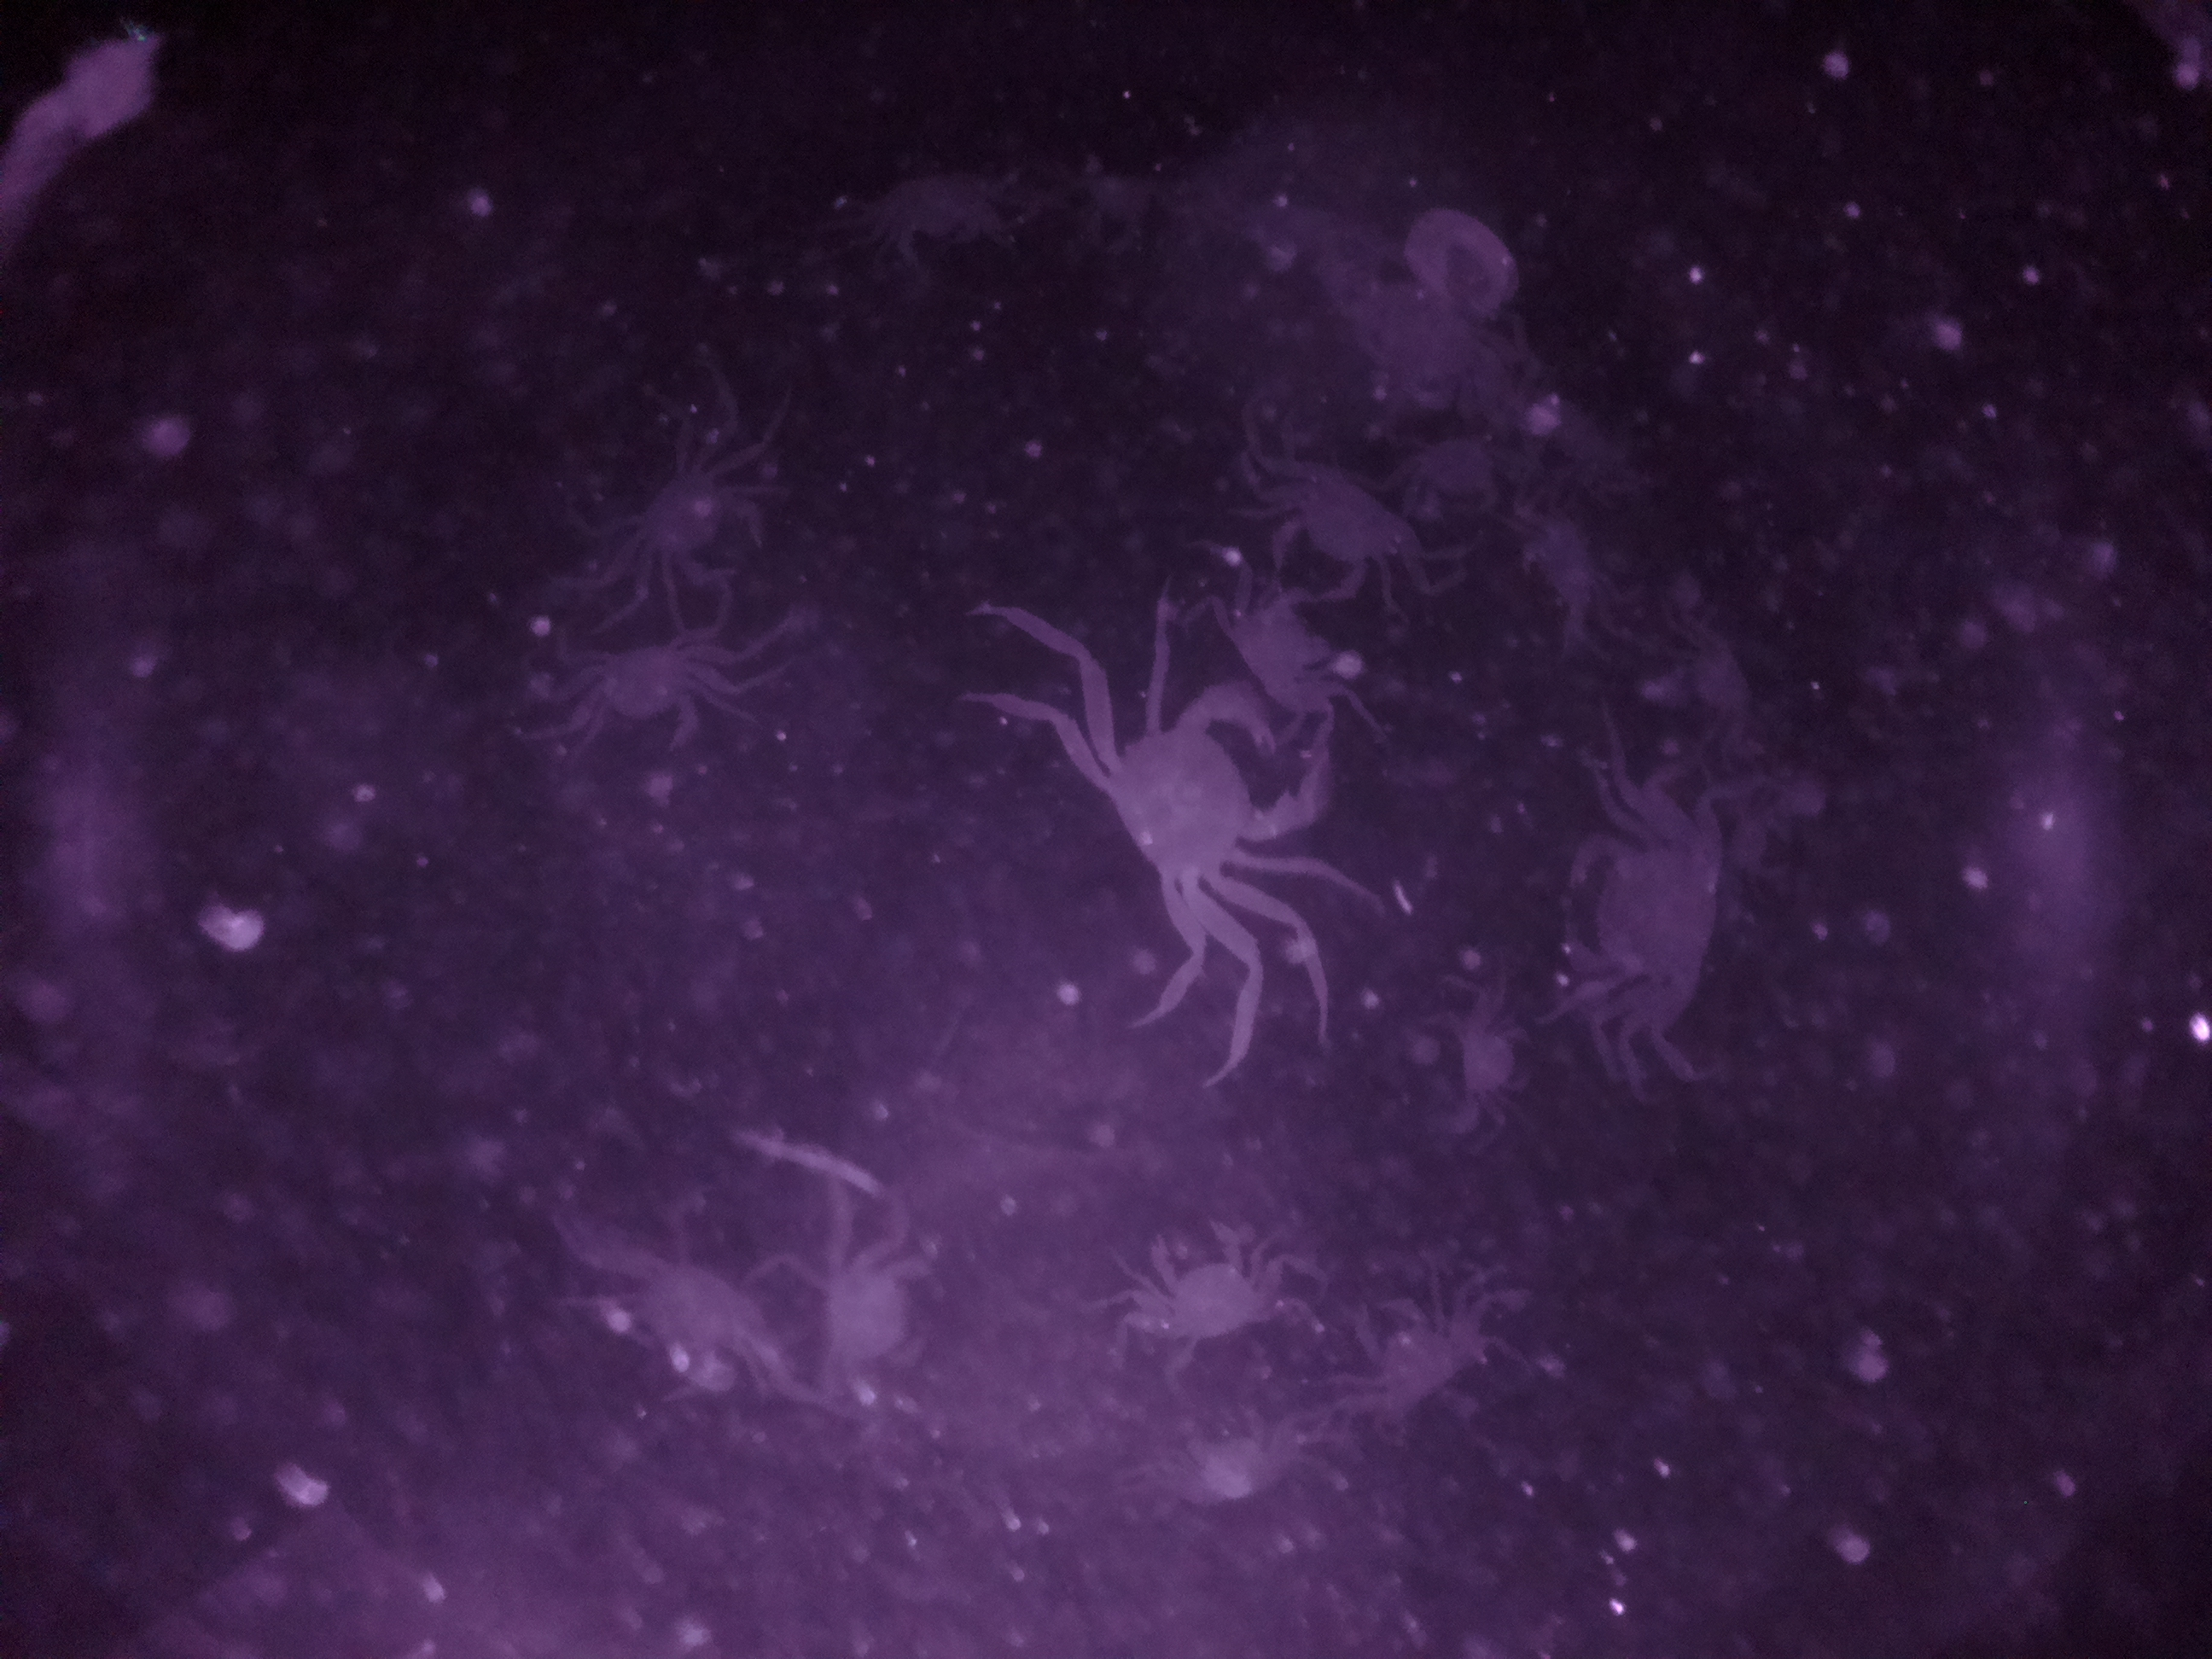Crab: (1061, 680, 1341, 962), (1540, 788, 1752, 1044), (1247, 441, 1432, 619), (1324, 1274, 1493, 1443), (617, 443, 779, 613), (552, 629, 738, 775), (1134, 1216, 1310, 1359)
